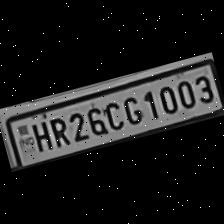0: (152, 82, 180, 118), (172, 76, 198, 112)
1: (138, 88, 162, 122)
2: (63, 107, 90, 144)
3: (190, 69, 216, 106)
6: (82, 102, 108, 139)
C: (100, 96, 126, 134)
G: (119, 91, 146, 128)
H: (26, 118, 54, 156)
R: (46, 113, 71, 150)
